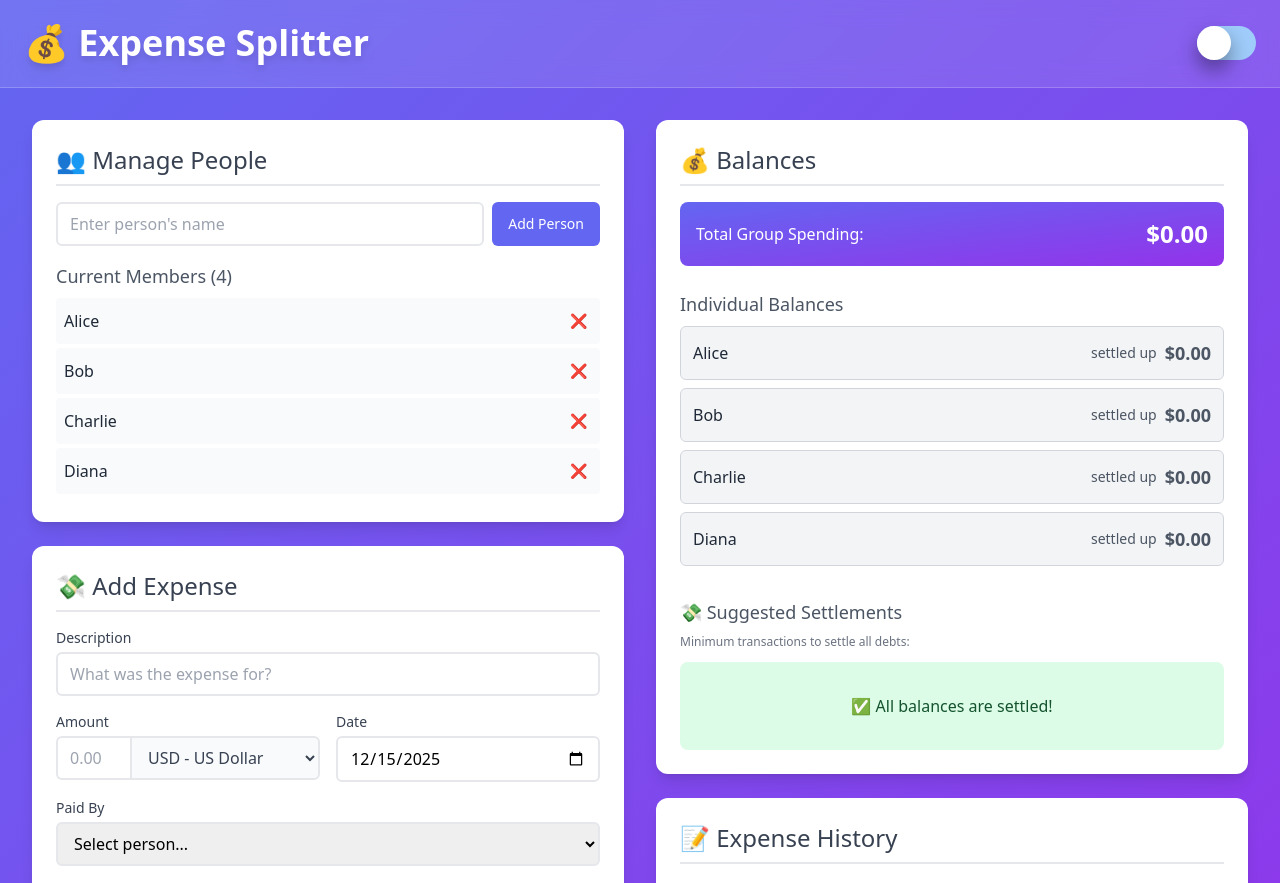
Test: Data Flow & State Management › reflects changes in ExpenseList immediately
In the field with placeholder "What was the expense for?": (328,674) [56,652,600,696], type "Unique Expense 123"
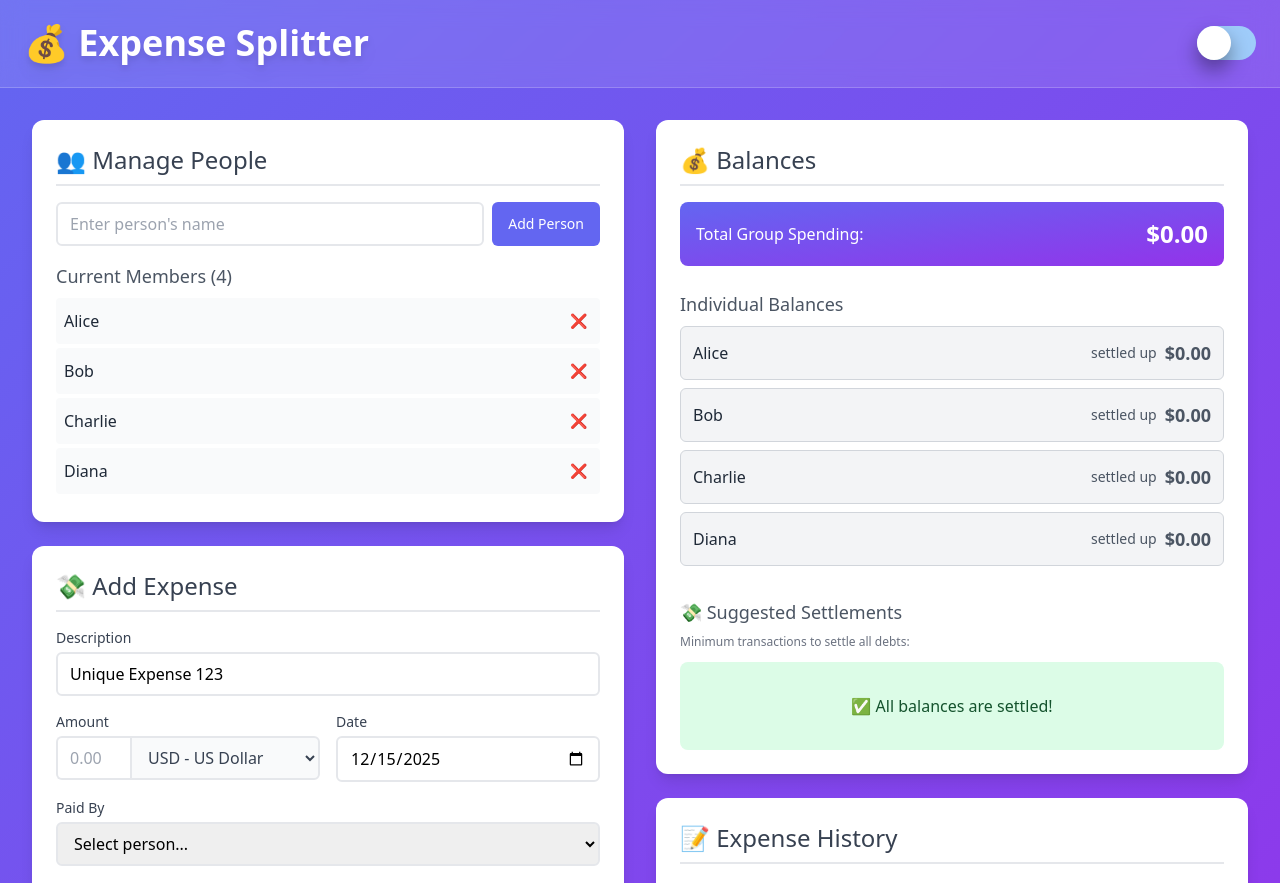
In the number field with placeholder "0.00": (93,758) [56,736,130,780], type "50"
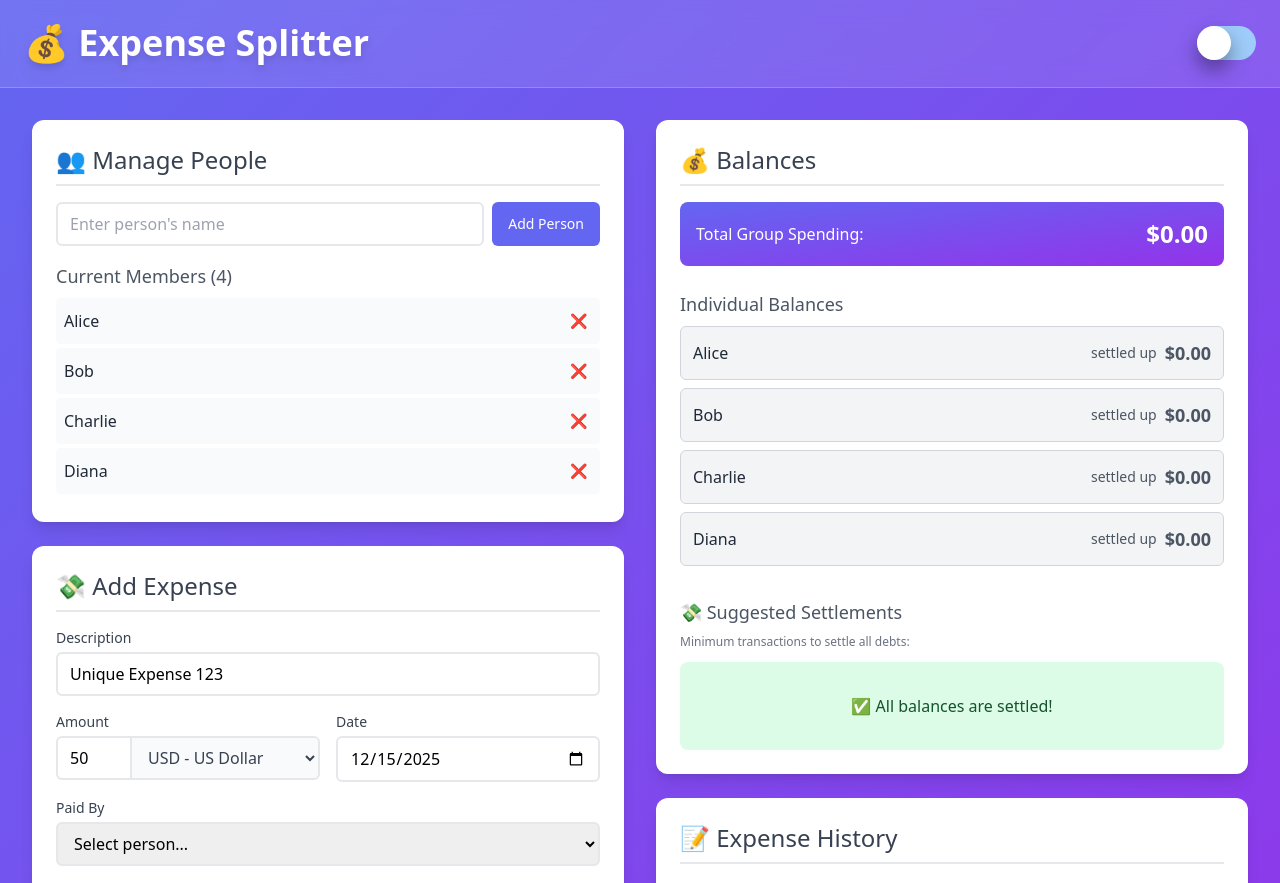
Select "Bob" in the dropdown labelled "Paid By": (328,844) [56,822,600,866]
(page scrolled)
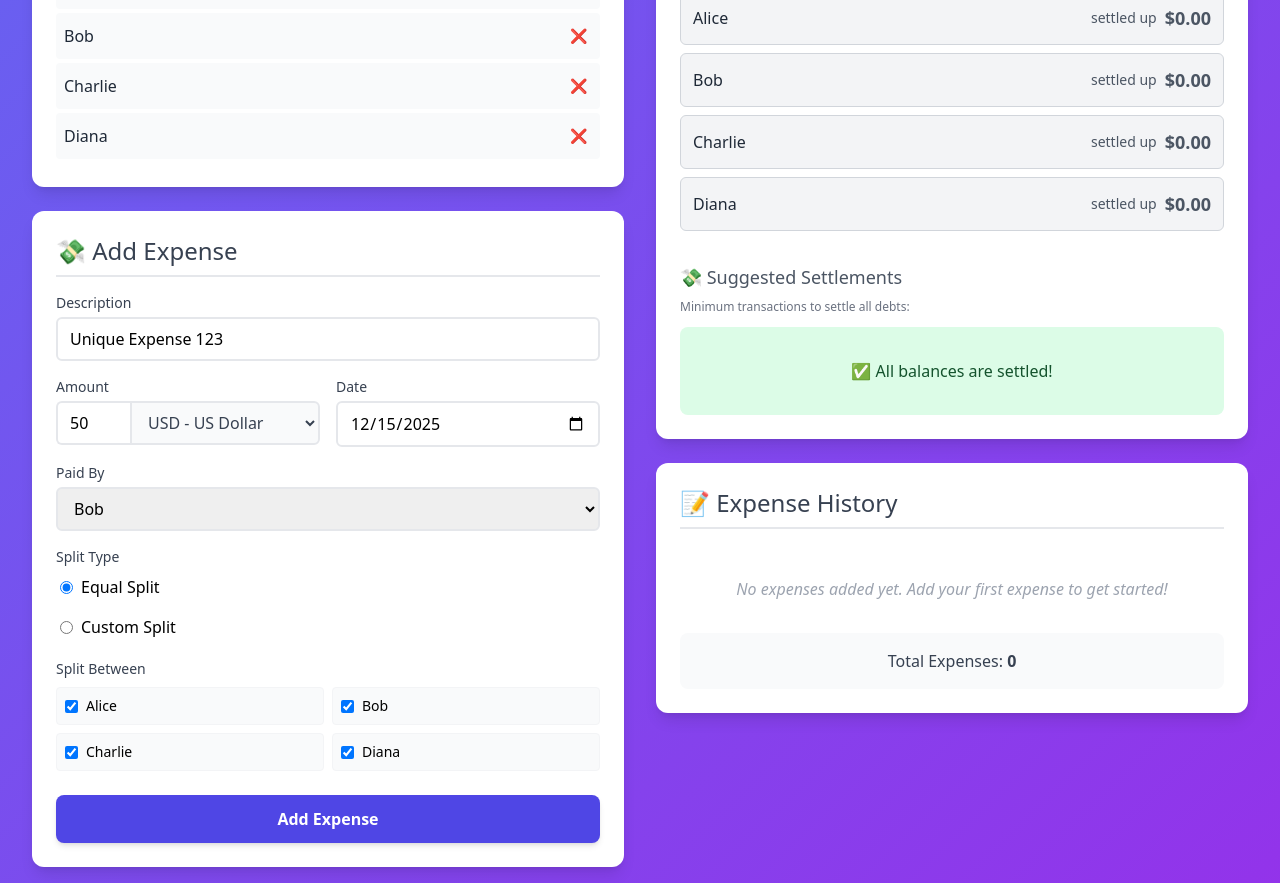
Click the button "Add Expense": (328,819) [56,795,600,843]
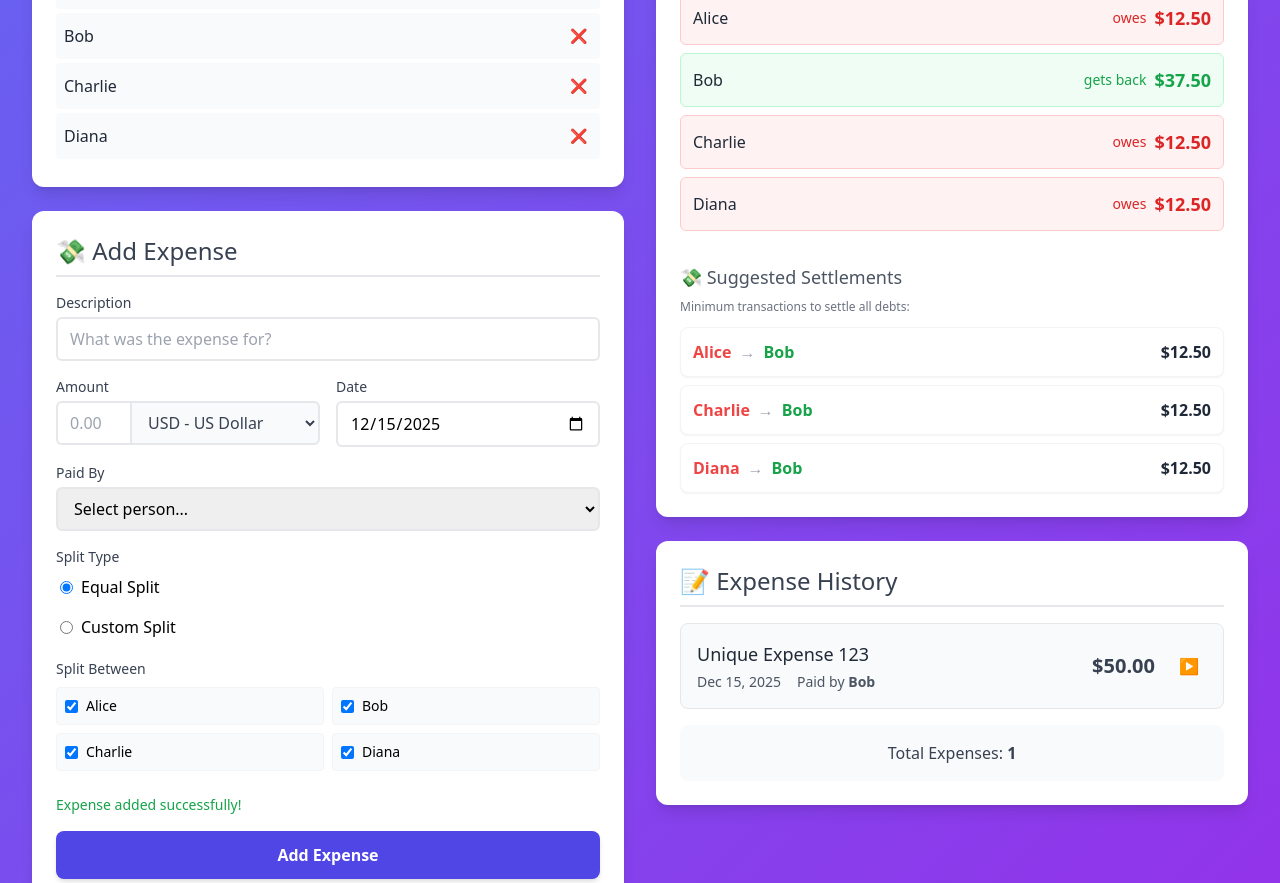
Expected: the heading "Unique Expense 123" is shown, [697,642,869,666]
